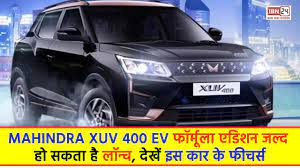XUV 400: (8, 1, 274, 126)
